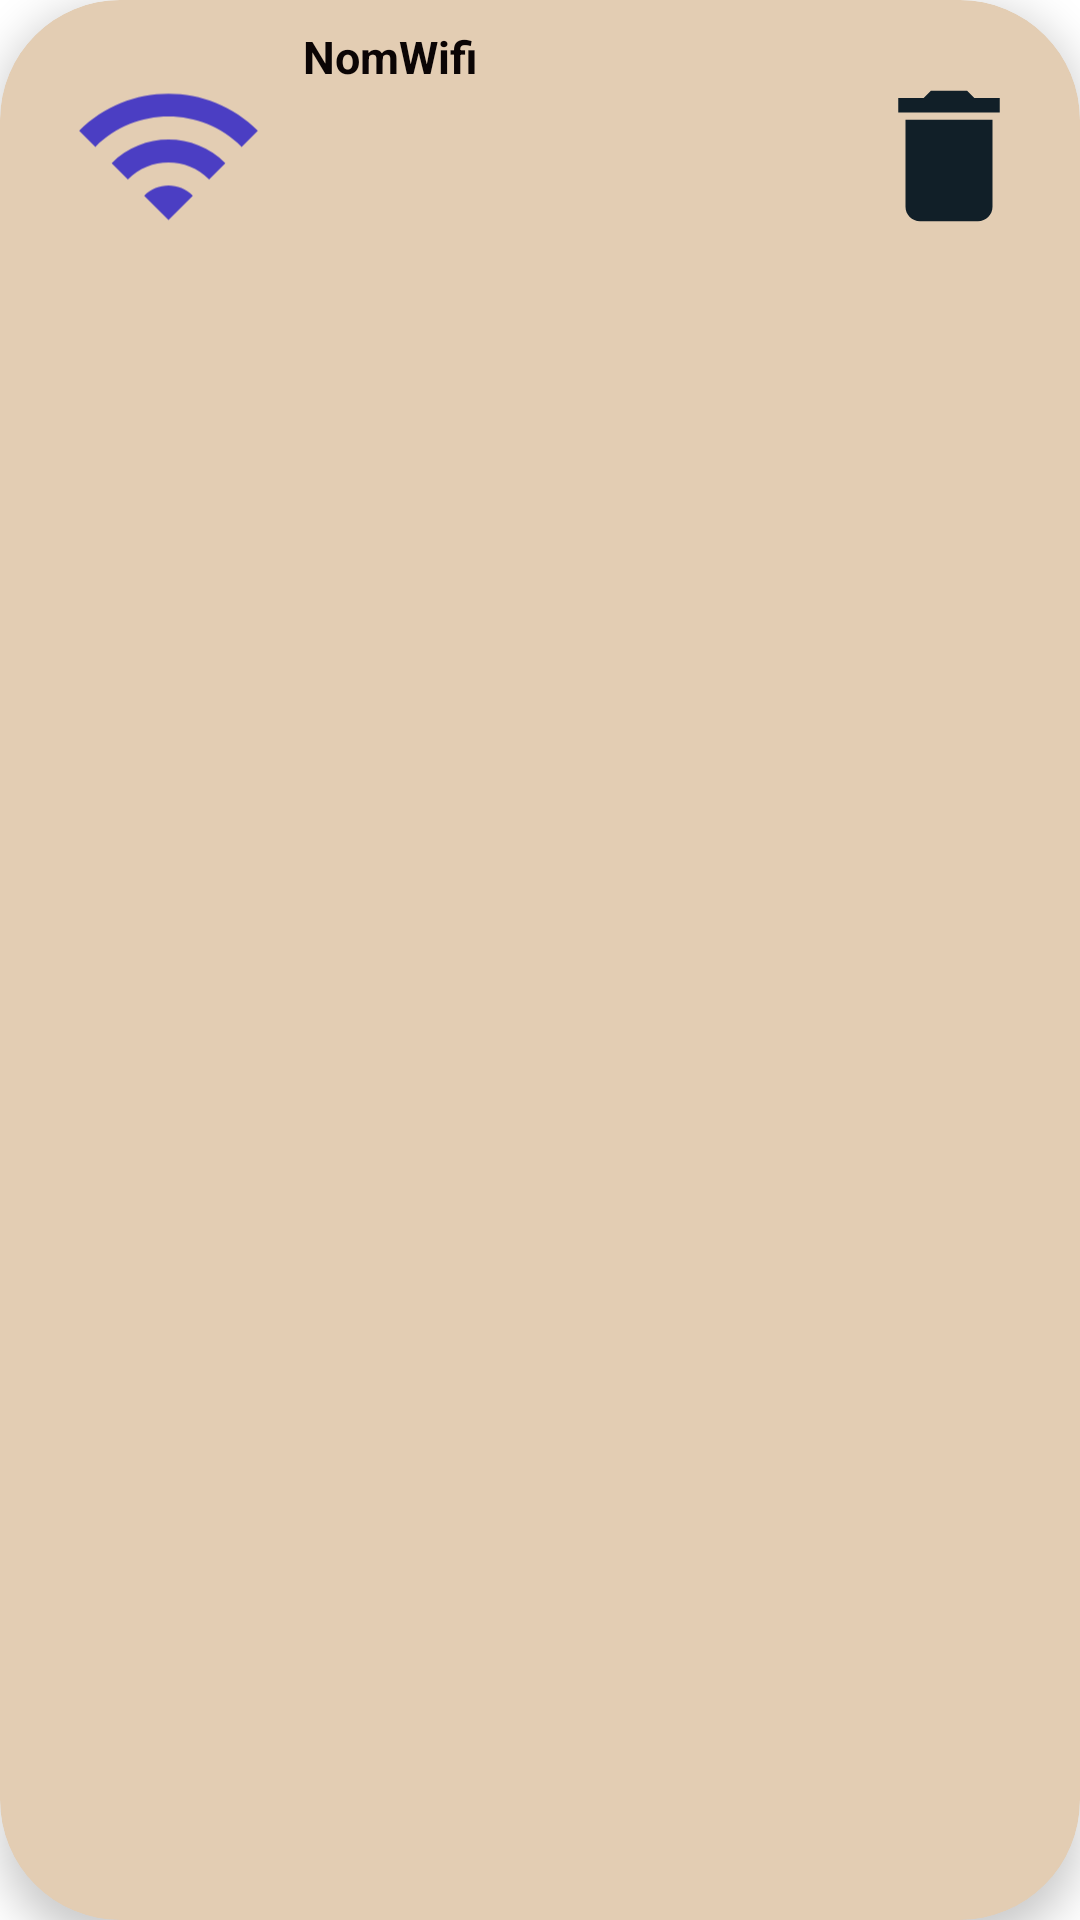

Point at icon controls on the screen. Image size 1080*1920, points as (x,y).
delete: (949,156)
